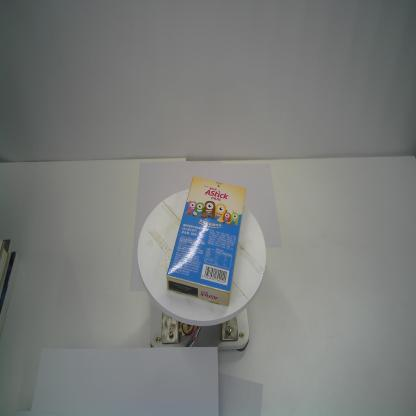Dessert: (165, 174, 247, 308)
